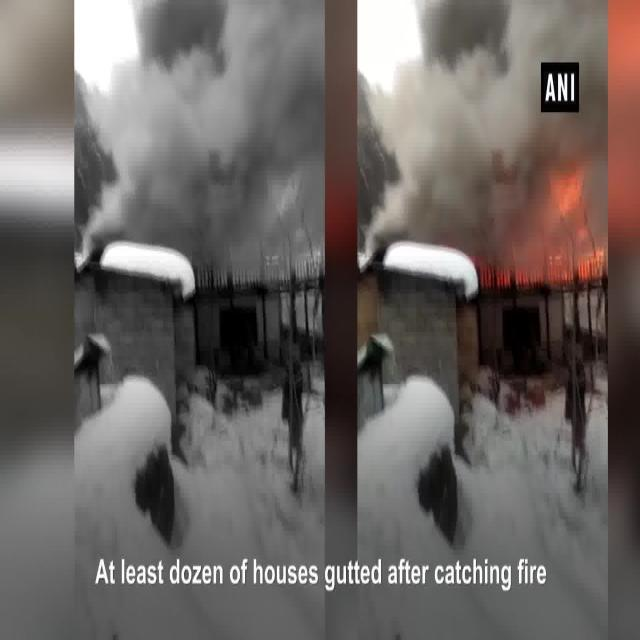Smoke: (85, 0, 331, 294), (357, 0, 601, 295), (104, 0, 328, 160)
